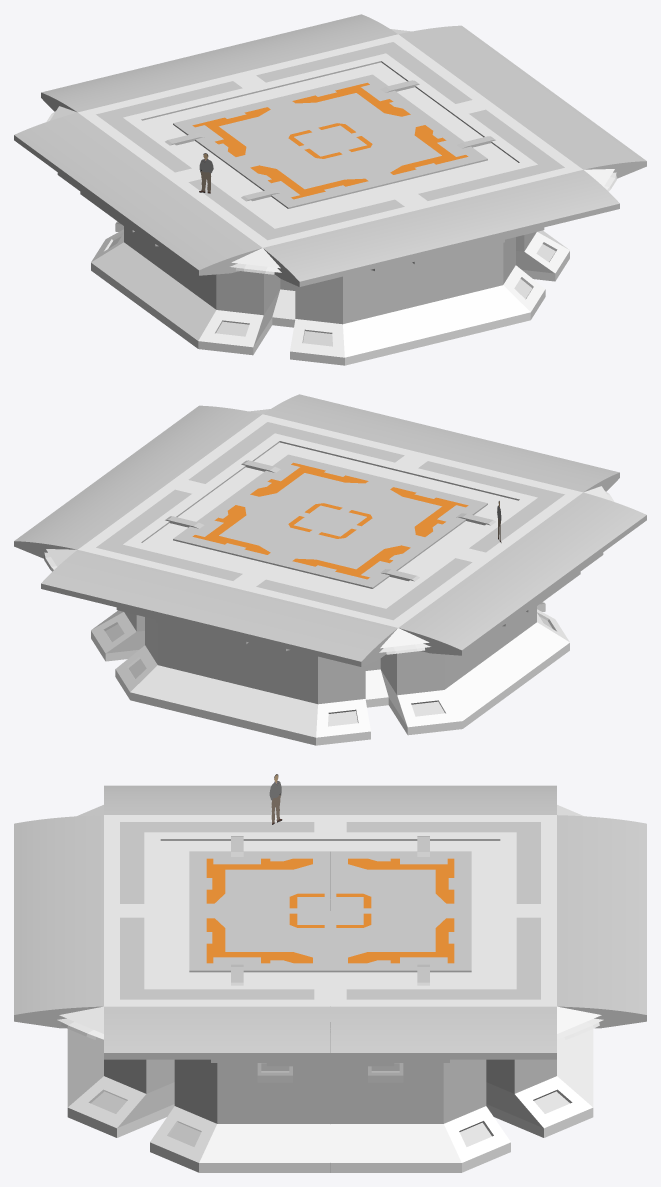
The picture shows the model from 3 angles, top to bottom: view 1: azimuth 30°, elevation 25°; view 2: azimuth 150°, elevation 25°; view 3: azimuth 270°, elevation 25°; orthographic projection. The views are drawn at different scales.
Parts seen in each view (by area): view 1: hov platform_001, hov platform_002, hov platform_004, hov platform_003; view 2: hov platform_004, hov platform_003, hov platform_001, hov platform_002; view 3: hov platform_003, hov platform_002, hov platform_004, hov platform_001.
Part boxes in pixels (x1,y1,x2,y2): hov platform_001: (106,141,459,365); hov platform_002: (331,93,646,342); hov platform_004: (14,53,329,309); hov platform_003: (201,14,553,140); hov platform_004: (201,521,554,745); hov platform_003: (14,473,329,722); hov platform_001: (331,433,646,689); hov platform_002: (107,394,459,520); hov platform_003: (330,911,646,1172); hov platform_002: (14,911,330,1172); hov platform_004: (330,785,646,1051); hov platform_001: (14,785,330,1051).
Bounding box in the file's own units: 808 × 281 × 808.
